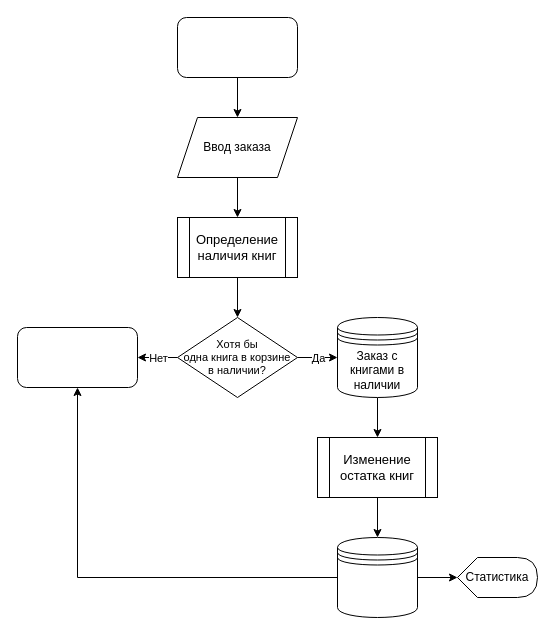
The diagram is 555 pixels wide and 635 high, and some of its shapes have lost their labels. Here are the shapes that lost their labels. From the top down, the box of each, then its label:
(176, 16, 298, 78): Начало
(16, 326, 138, 388): Конец
(336, 536, 418, 618): Сведения об остатках
